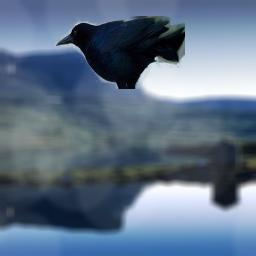Crow: (55, 16, 185, 89)
